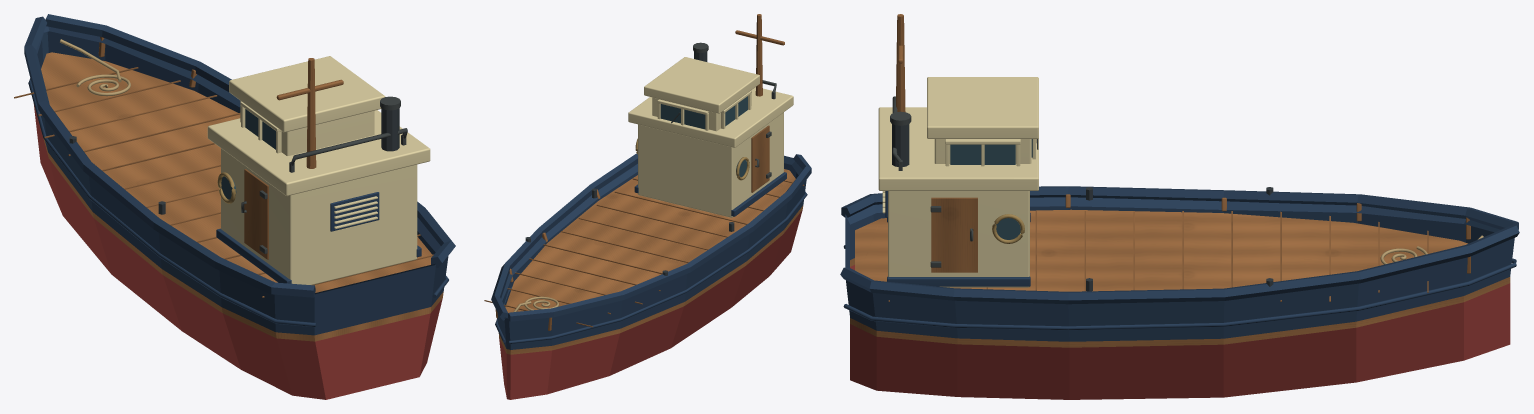
Rendered from boat.glb.
3 renders of one model, left to right at view 1: azimuth 30°, elevation 25°; view 2: azimuth 150°, elevation 25°; view 3: azimuth 270°, elevation 25°, orthographic. The views are drawn at different scales.
Visible parts, largest first — view 1: Solid_Ref_Cream, Solid_Ref_Navy, Solid_Ref_D19_Deck, Solid_Ref_Red, Solid_Ref_D19_Wood, Solid_Ref_D19_ForgedIron, Solid_Ref_D19_Cord, Solid_Ref_Iron, Solid_Ref_Glass; view 2: Solid_Ref_D19_Deck, Solid_Ref_Cream, Solid_Ref_Navy, Solid_Ref_Red, Solid_Ref_D19_Wood, Solid_Ref_Glass, Solid_Ref_D19_ForgedIron, Solid_Ref_D19_Cord; view 3: Solid_Ref_Navy, Solid_Ref_Red, Solid_Ref_D19_Deck, Solid_Ref_Cream, Solid_Ref_D19_Wood, Solid_Ref_Glass, Solid_Ref_Iron, Solid_Ref_D19_ForgedIron.
Part boxes in pixels (box(x1,y1,x2,y2)): Solid_Ref_Cream: box(207, 56, 430, 285); Solid_Ref_Navy: box(24, 14, 455, 335); Solid_Ref_D19_Deck: box(41, 52, 443, 341); Solid_Ref_Red: box(34, 105, 442, 399); Solid_Ref_D19_Wood: box(14, 37, 433, 297); Solid_Ref_D19_ForgedIron: box(241, 96, 407, 253); Solid_Ref_D19_Cord: box(60, 39, 130, 96); Solid_Ref_Iron: box(69, 108, 399, 214); Solid_Ref_Glass: box(221, 109, 275, 199); Solid_Ref_D19_Deck: box(498, 169, 803, 354); Solid_Ref_Cream: box(628, 57, 793, 217); Solid_Ref_Navy: box(491, 153, 811, 349); Solid_Ref_Red: box(499, 210, 802, 399); Solid_Ref_D19_Wood: box(484, 14, 804, 330); Solid_Ref_Glass: box(660, 96, 747, 177); Solid_Ref_D19_ForgedIron: box(671, 42, 776, 178); Solid_Ref_D19_Cord: box(513, 296, 559, 311); Solid_Ref_Navy: box(840, 186, 1519, 341); Solid_Ref_Red: box(850, 265, 1510, 399); Solid_Ref_D19_Deck: box(850, 209, 1510, 347); Solid_Ref_Cream: box(878, 77, 1038, 287); Solid_Ref_D19_Wood: box(888, 14, 1470, 301); Solid_Ref_Glass: box(950, 139, 1032, 239); Solid_Ref_Iron: box(892, 124, 1273, 291); Solid_Ref_D19_ForgedIron: box(890, 96, 1038, 267).
Size of the model in its own units: 1.85 by 2.54 by 4.79.
10 materials, 2 textured.
